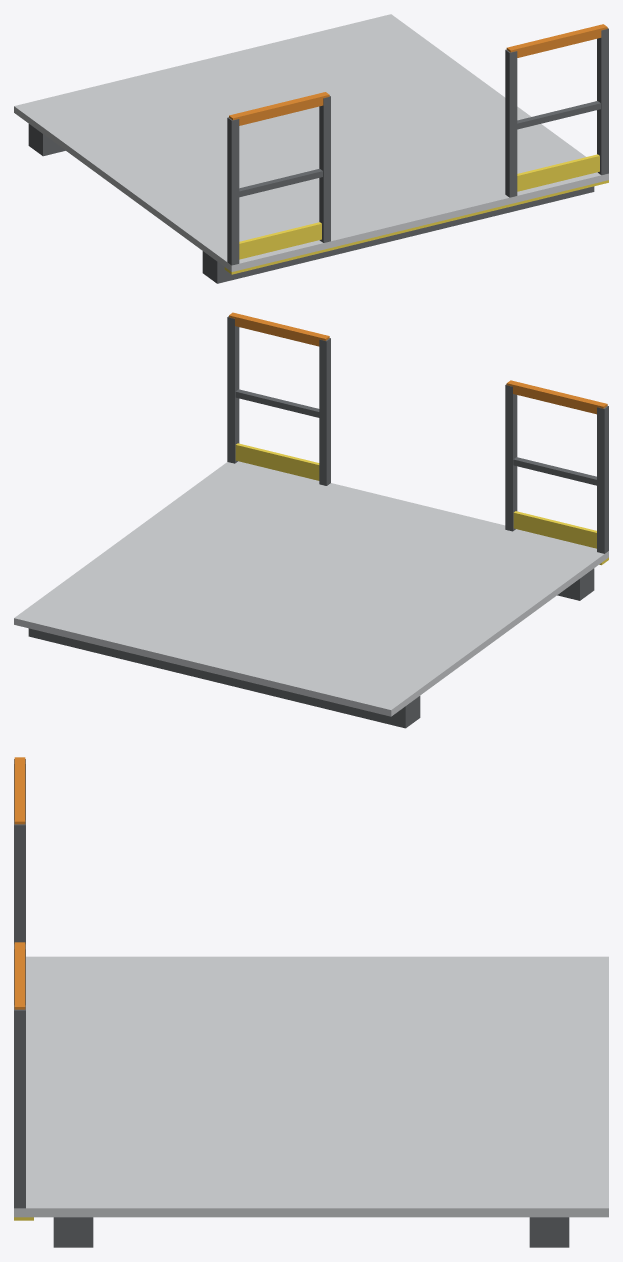
Rendered from self-storage-facility-and-loading-bay-self-storage-fac-b1902d2d__34704.glb.
3 views of the same model, one above another, from view 1: azimuth 30°, elevation 25°; view 2: azimuth 150°, elevation 25°; view 3: azimuth 270°, elevation 25° (orthographic). The views are drawn at different scales.
Visible parts, largest first — view 1: self-storage-facility-and-loading-bay-mezzanine-deck-section (×4); view 2: self-storage-facility-and-loading-bay-mezzanine-deck-section (×4); view 3: self-storage-facility-and-loading-bay-mezzanine-deck-section (×3).
Boxes of the visible parts, x1,y1,x2,y2 form: self-storage-facility-and-loading-bay-mezzanine-deck-section (×4): (14,14,608,283); self-storage-facility-and-loading-bay-mezzanine-deck-section (×4): (14,312,608,728); self-storage-facility-and-loading-bay-mezzanine-deck-section (×3): (14,757,608,1247).
Bounding box in the file's own units: 3 × 1.33 × 3.
